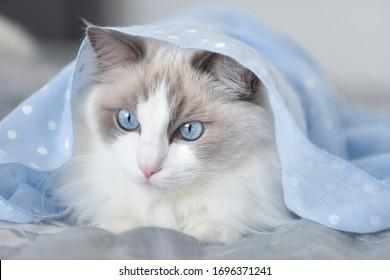ragdoll: (82, 19, 263, 212)
